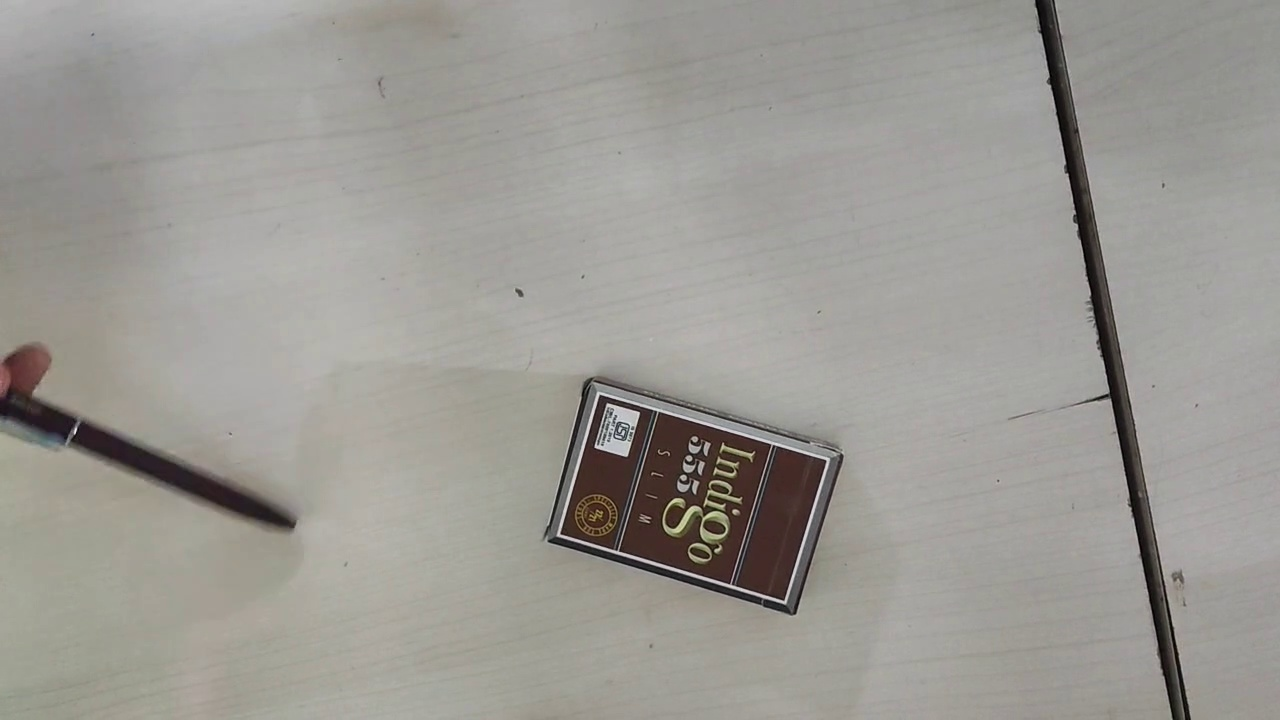BEX: (560, 396, 830, 604)
